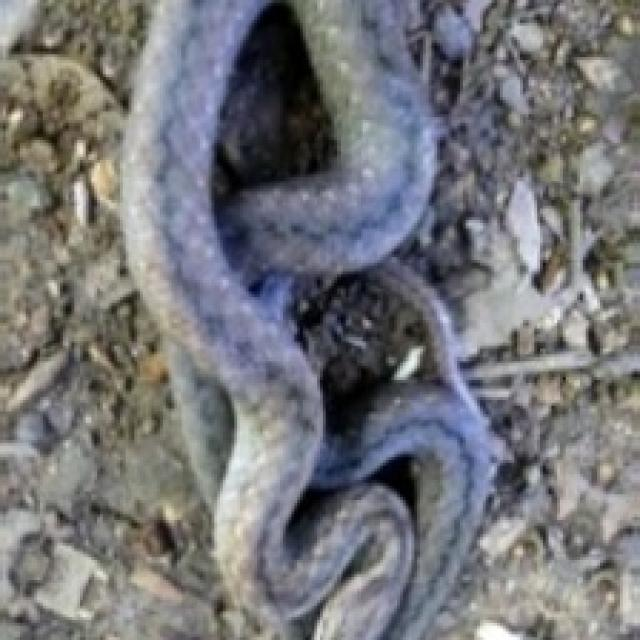reinhardts lined snake: (123, 0, 500, 637)
